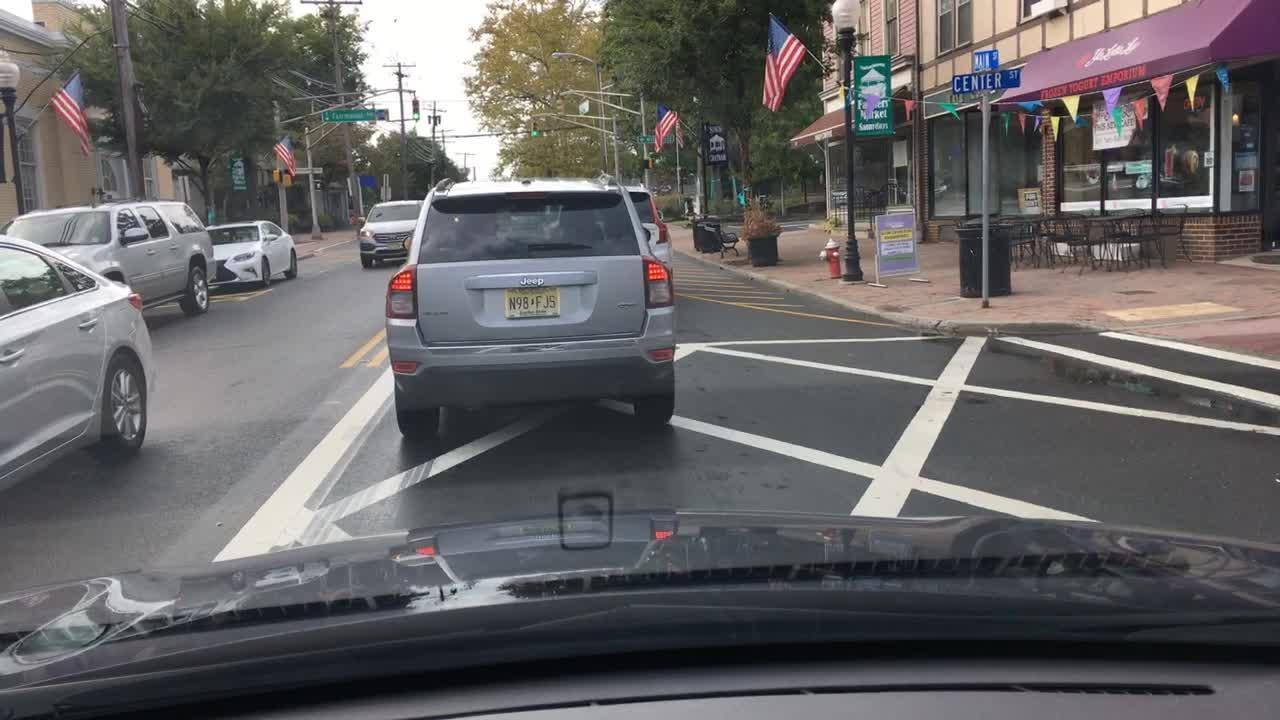jeep: (513, 276, 549, 290)
